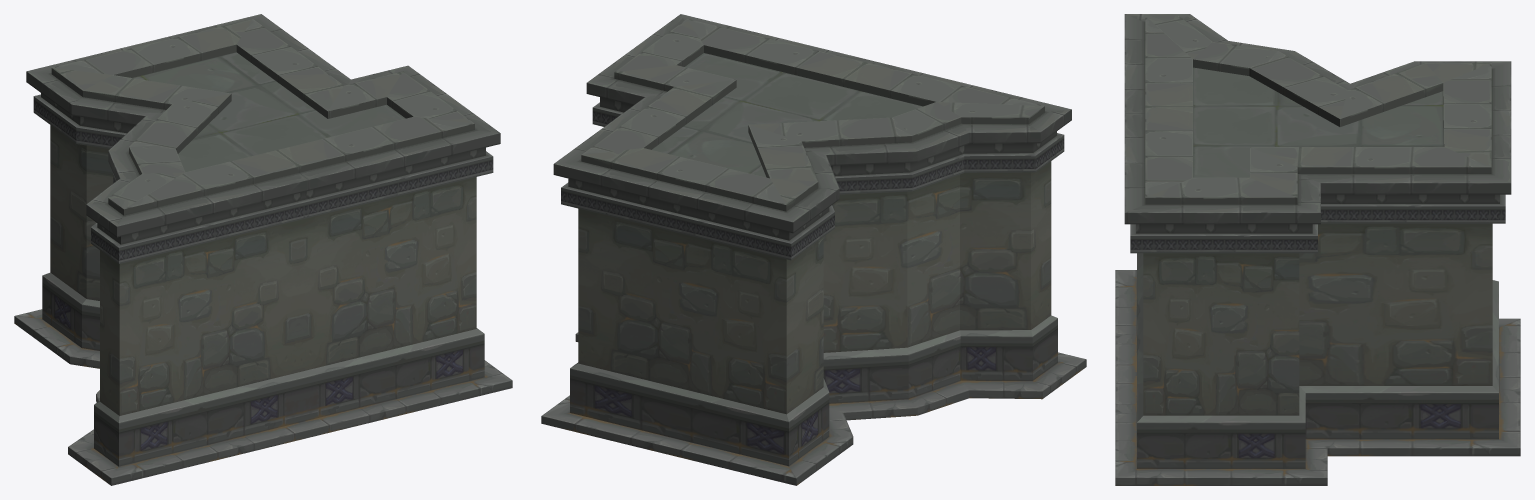
Rendered from sc_dungeon_moshenta_fangzi_001.FBX.
3 views of the same model, side by side, from view 1: azimuth 30°, elevation 25°; view 2: azimuth 150°, elevation 25°; view 3: azimuth 270°, elevation 25° (orthographic). The views are drawn at different scales.
Visible parts, largest first — view 1: sc_dungeon_moshenta_fangzi_001; view 2: sc_dungeon_moshenta_fangzi_001; view 3: sc_dungeon_moshenta_fangzi_001.
Boxes of the visible parts, bbox=[...] form: sc_dungeon_moshenta_fangzi_001: bbox=[14, 14, 512, 485]; sc_dungeon_moshenta_fangzi_001: bbox=[541, 14, 1086, 485]; sc_dungeon_moshenta_fangzi_001: bbox=[1115, 14, 1520, 485].
Size of the model in its own units: 10.36 by 6.41 by 8.53.
Materials: 1 (1 with a texture image).
